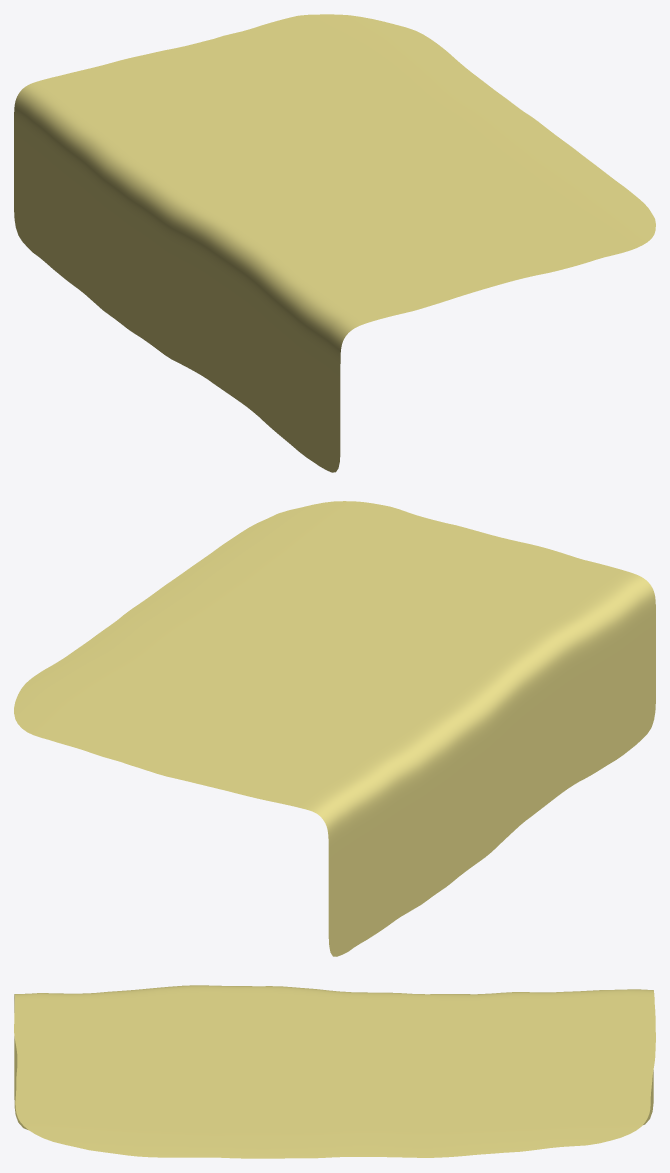
Rendered from WAAAATER.fbx.
3 views of the same model, one above another, from view 1: azimuth 30°, elevation 25°; view 2: azimuth 150°, elevation 25°; view 3: azimuth 270°, elevation 25° (orthographic). The views are drawn at different scales.
Visible parts, largest first — view 1: water.001; view 2: water.001; view 3: water.001.
Part boxes in pixels (x1,y1,x2,y2): water.001: (14, 14, 655, 472); water.001: (14, 501, 655, 956); water.001: (14, 985, 655, 1158).
Bounding box in the file's own units: 146 × 62.26 × 229.
